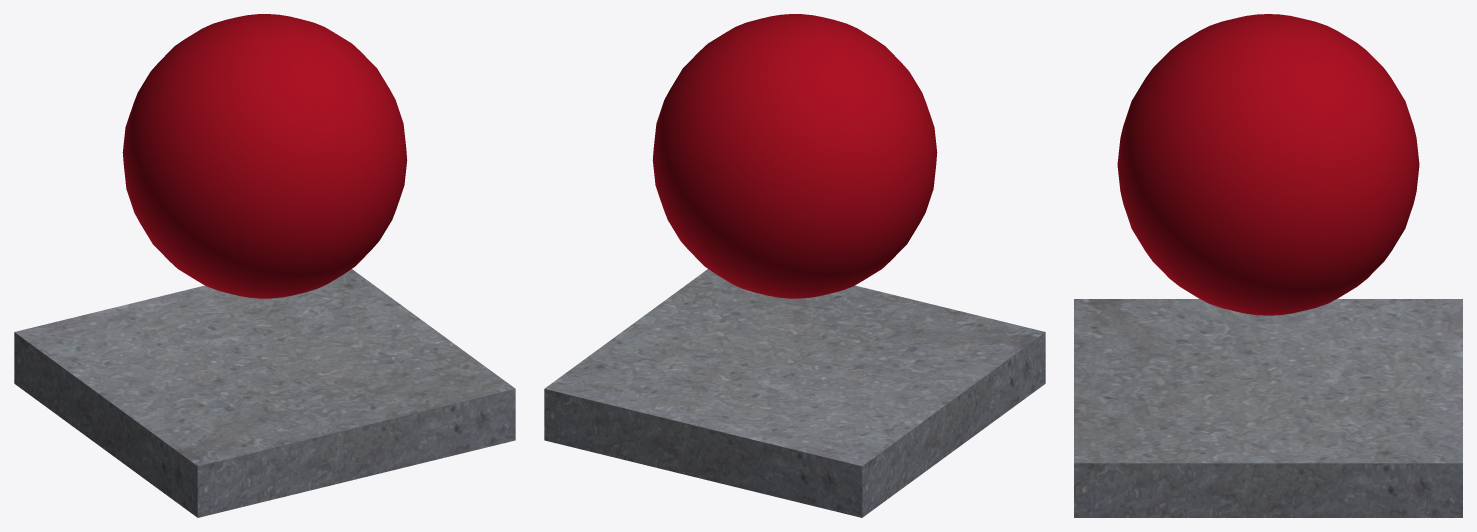
File: god.FBX
3 renders of one model, left to right at view 1: azimuth 30°, elevation 25°; view 2: azimuth 150°, elevation 25°; view 3: azimuth 270°, elevation 25°, orthographic. The views are drawn at different scales.
Visible parts, largest first — view 1: Box001, Sphere001; view 2: Box001, Sphere001; view 3: Box001, Sphere001.
Boxes of the visible parts, box(x1,y1,x2,y2) form: Box001: box(14, 269, 515, 517); Sphere001: box(122, 14, 407, 298); Box001: box(544, 269, 1045, 517); Sphere001: box(652, 14, 937, 298); Box001: box(1074, 299, 1462, 517); Sphere001: box(1117, 14, 1419, 315).
Size of the model in its own units: 100 by 116 by 100.
2 materials, 2 textured.
